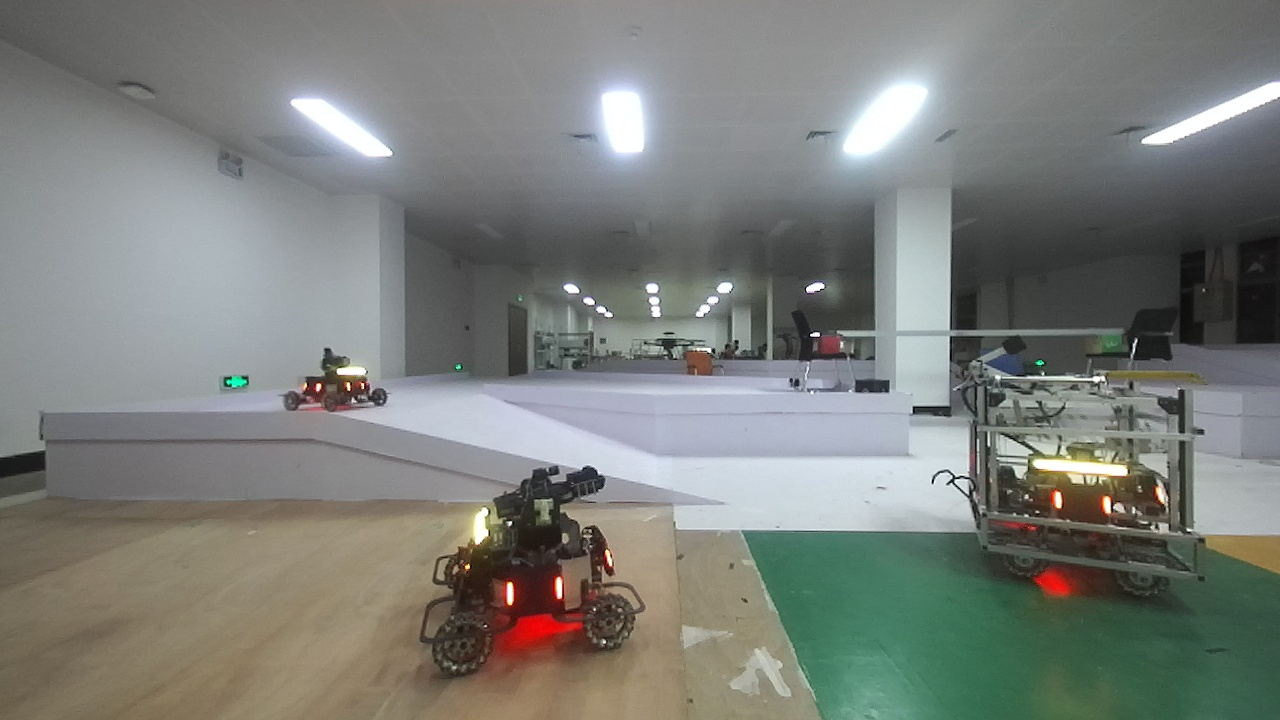car: (938, 354, 1226, 606), (442, 471, 638, 677), (284, 338, 388, 421)
